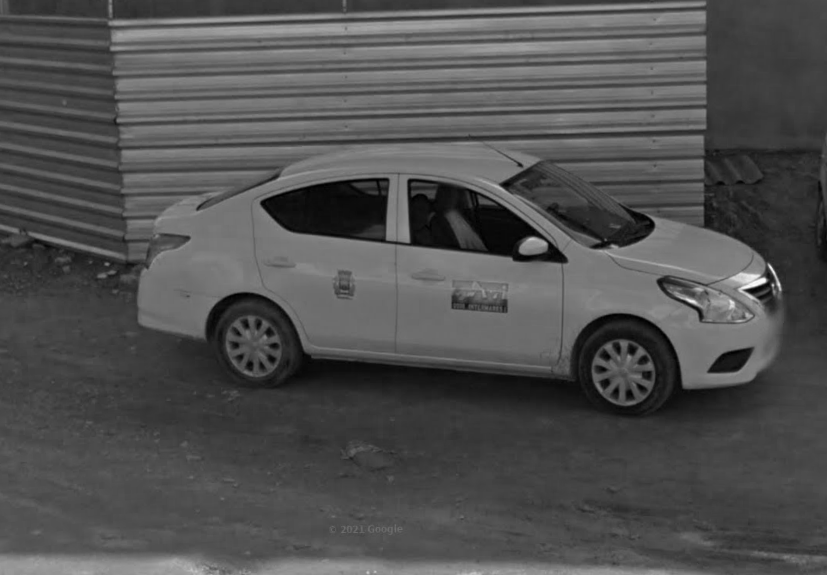car: (134, 134, 792, 422)
